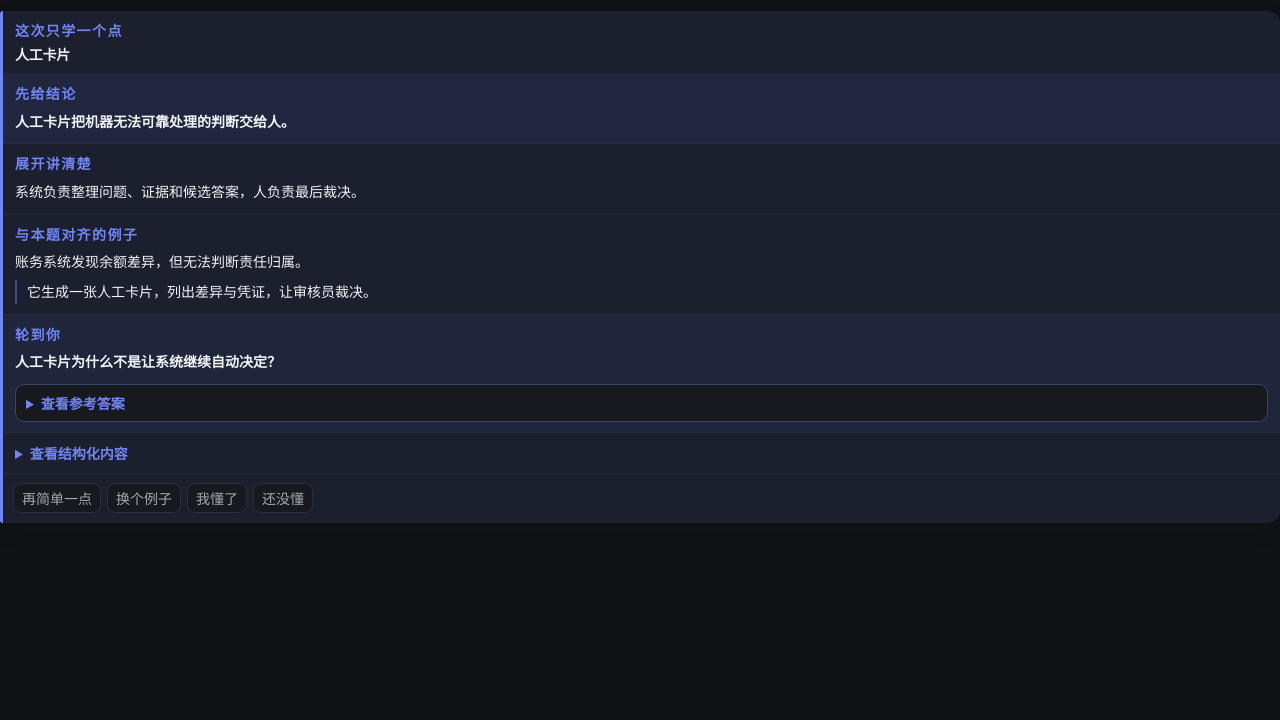
Test: renders one coherent model-authored lesson without an automatic vocabulary section
The width and height of the screenshot is (1280, 720).
Expected: the text "先给结论" is shown, [15,86,77,102]
Expected: the text "展开讲清楚" is shown, [15,156,92,172]
Click the heading "查看参考答案" at x=83, y=404, box [41,394,125,413]
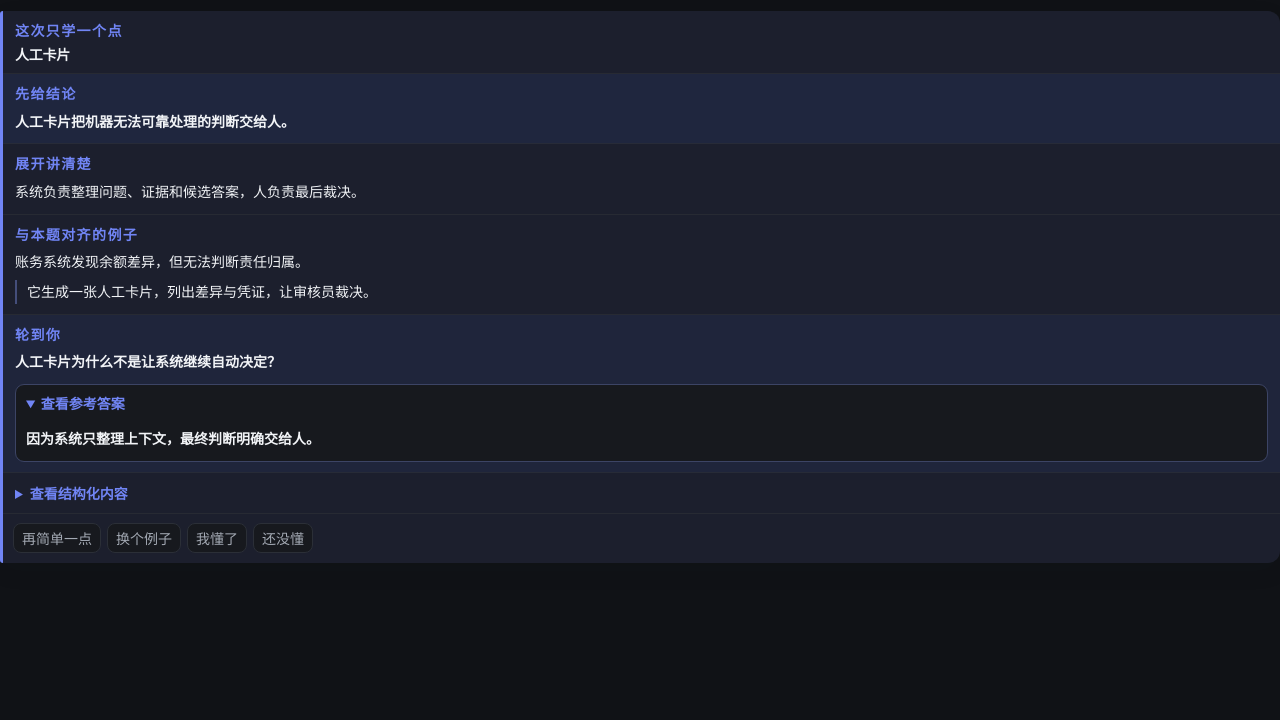
Expected: the text "因为系统只整理上下文，最终判断明确交给人。" is shown, [26,429,320,448]
